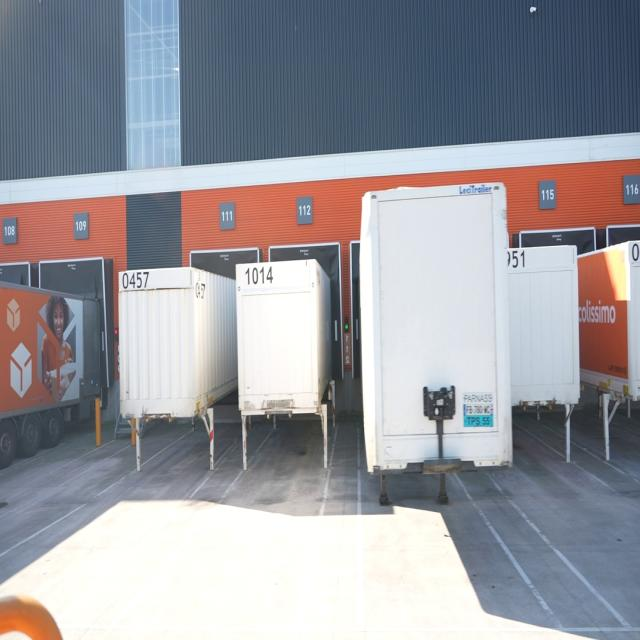Code: (244, 260, 275, 288), (118, 270, 152, 290)
